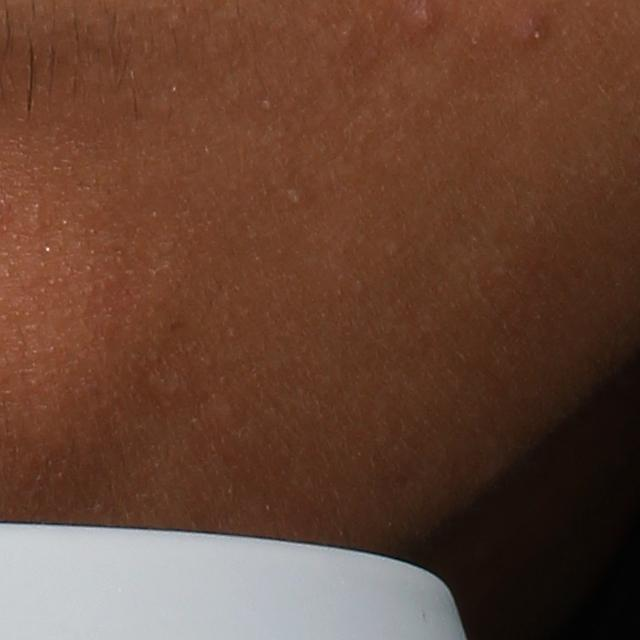papule: (516, 15, 553, 51)
